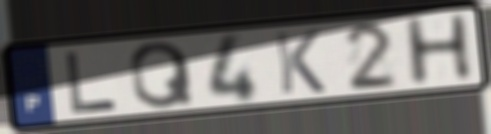2: (341, 20, 400, 93)
4: (205, 31, 262, 106)
H: (398, 11, 478, 90)
K: (272, 28, 329, 97)
L: (62, 49, 121, 115)
Q: (127, 38, 198, 111)
